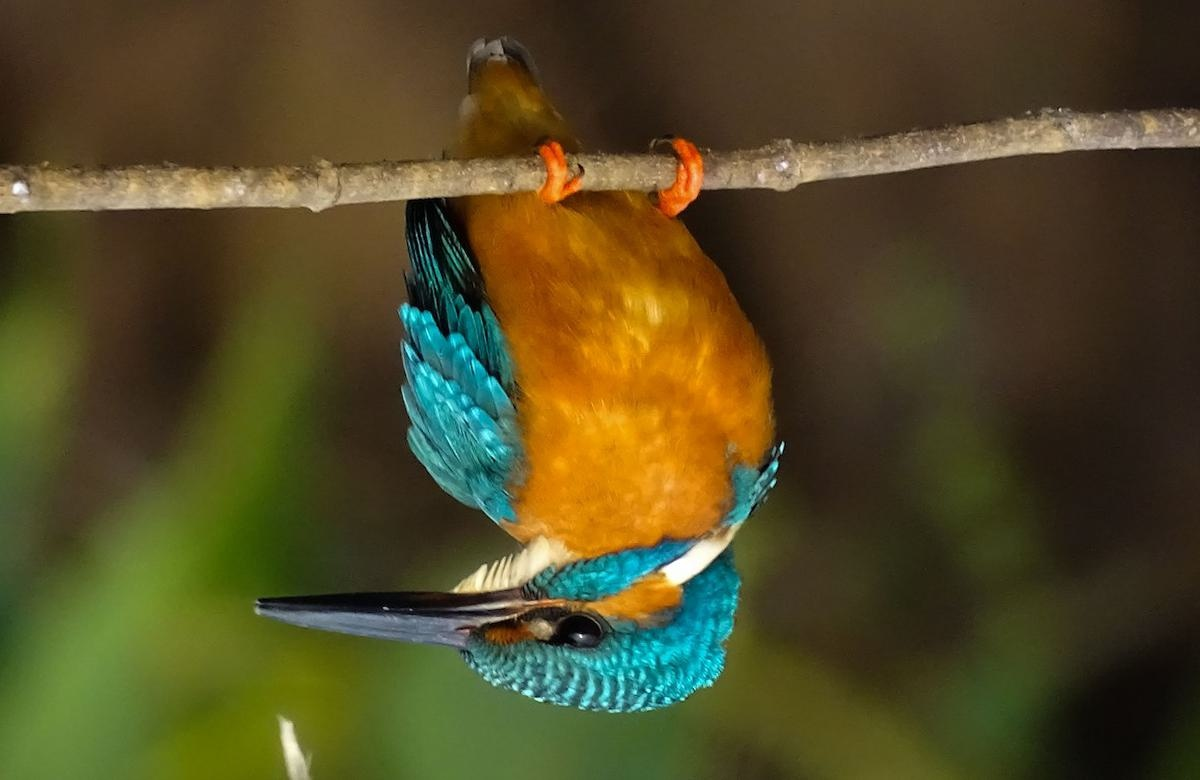kingfisher: (247, 62, 783, 706)
